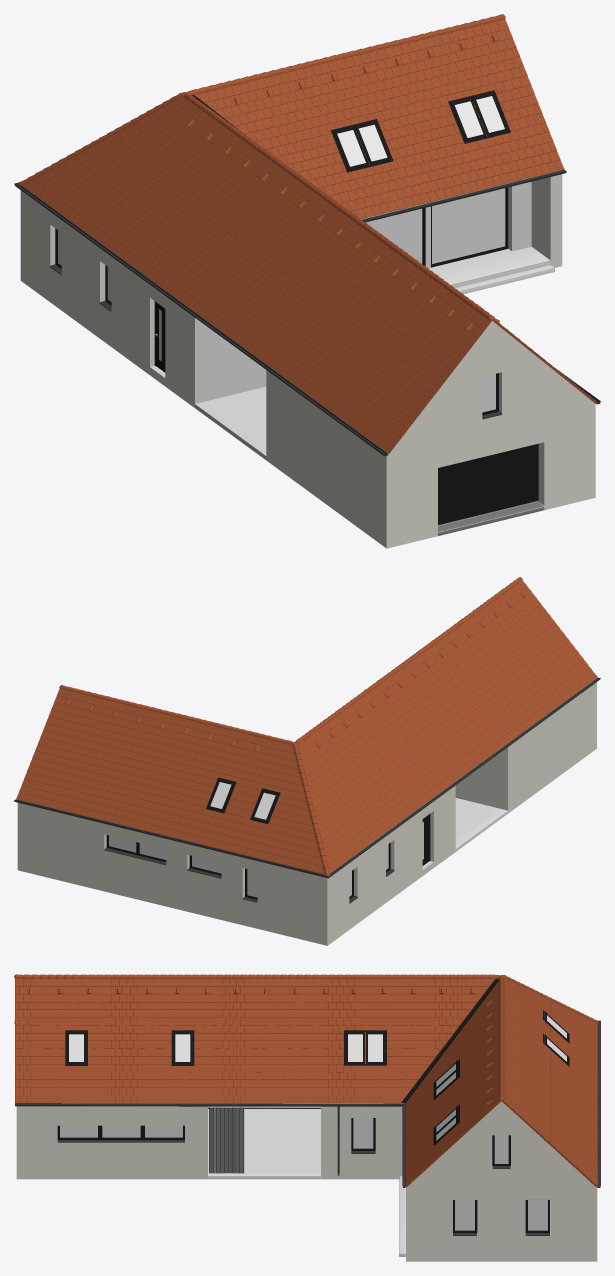
The model's file is houseD.fbx.
The picture shows the model from 3 angles, top to bottom: view 1: azimuth 30°, elevation 25°; view 2: azimuth 150°, elevation 25°; view 3: azimuth 270°, elevation 25°; orthographic projection. The views are drawn at different scales.
Parts seen in each view (by area): view 1: Cube.006, zdi, Cube.004, podlady 1np, garage doors, hreben_koncova, Window.015, okap, Window.014, stresni okna plechy.002, stresni okna plechy.003, stresni okna plechy.004 (+3 smaller); view 2: Cube.006, zdi, Cube.003, hreben_koncova, okap, podlady 1np, Window.009, stresni okna plechy.009, stresni okna plechy.010, Window.007; view 3: Cube.007, zdi, Cube.003, Cube.004, podlady 1np, hreben_koncova, okap, drev para, Window.011, stresni okna plechy.005, Window, Window.002 (+5 smaller).
Part boxes in pixels (x1,y1,x2,y2): Cube.006: (22, 93, 491, 453); zdi: (20, 170, 595, 548); Cube.004: (191, 18, 564, 218); podlady 1np: (150, 246, 554, 535); garage doors: (438, 443, 538, 526); hreben_koncova: (18, 14, 505, 330); Window.015: (431, 187, 508, 267); okap: (14, 169, 600, 456); Window.014: (366, 208, 425, 265); stresni okna plechy.002: (330, 119, 393, 172); stresni okna plechy.003: (448, 90, 510, 143); stresni okna plechy.004: (333, 126, 369, 169); Cube.006: (295, 580, 597, 872); zdi: (17, 678, 596, 945); Cube.003: (16, 688, 324, 874); hreben_koncova: (59, 577, 525, 876); okap: (14, 677, 600, 878); podlady 1np: (422, 798, 507, 869); Window.009: (104, 835, 166, 864); stresni okna plechy.009: (206, 777, 236, 813); stresni okna plechy.010: (250, 788, 280, 823); Window.007: (187, 855, 221, 878); Cube.007: (15, 975, 500, 1103); zdi: (16, 1101, 597, 1261); Cube.003: (501, 978, 597, 1186); Cube.004: (405, 981, 501, 1186); podlady 1np: (208, 1106, 550, 1256); hreben_koncova: (14, 974, 598, 1105); okap: (14, 1020, 600, 1187); drev para: (209, 1107, 244, 1173); Window.011: (57, 1125, 184, 1142); stresni okna plechy.005: (344, 1030, 386, 1065); Window: (351, 1118, 375, 1153); Window.002: (525, 1200, 549, 1235).
Size of the model in its own units: 1615 by 747 by 2418.
